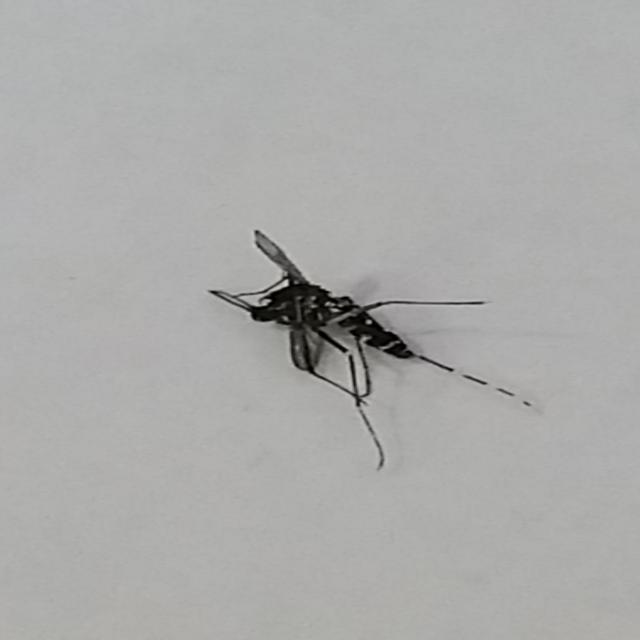albopictus: (184, 224, 529, 483)
